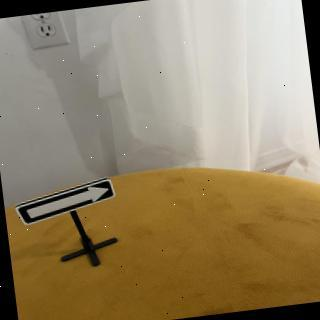sign_oneway_right: (12, 178, 120, 230)
